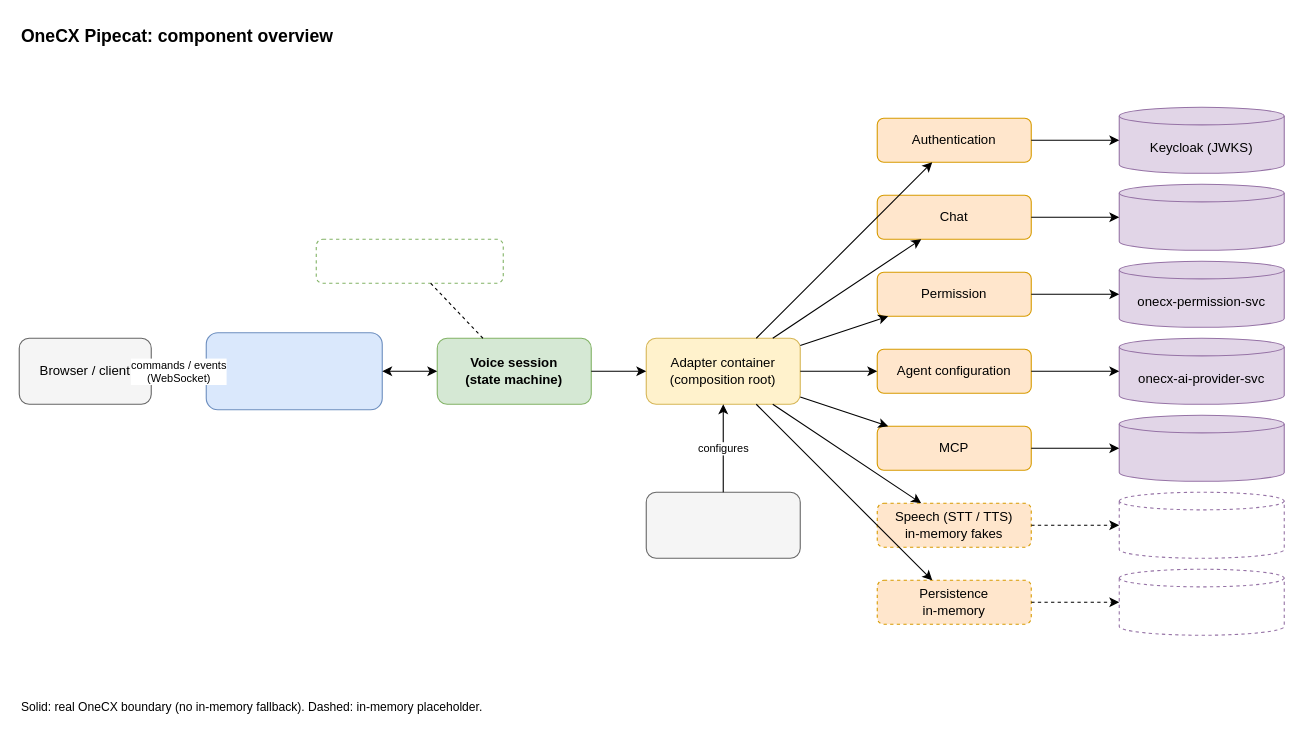
The diagram is 1304 pixels wide and 741 high, and some of its shapes have lost their labels. The centre of each missing label's shape, as x and y in pixels:
"Future durable store" goes at pixel 1201 601.
"Future STT / TTS vendors" goes at pixel 1201 524.
"HTTP + WebSocket app (health, voice endpoint, expiry watcher)" goes at pixel 293 371.
"onecx-chat-svc" goes at pixel 1201 216.
"Per-agent MCP servers" goes at pixel 1201 447.
"Protocol: typed commands / events (transport-neutral)" goes at pixel 409 260.
"Typed settings (environment variables)" goes at pixel 722 524.
